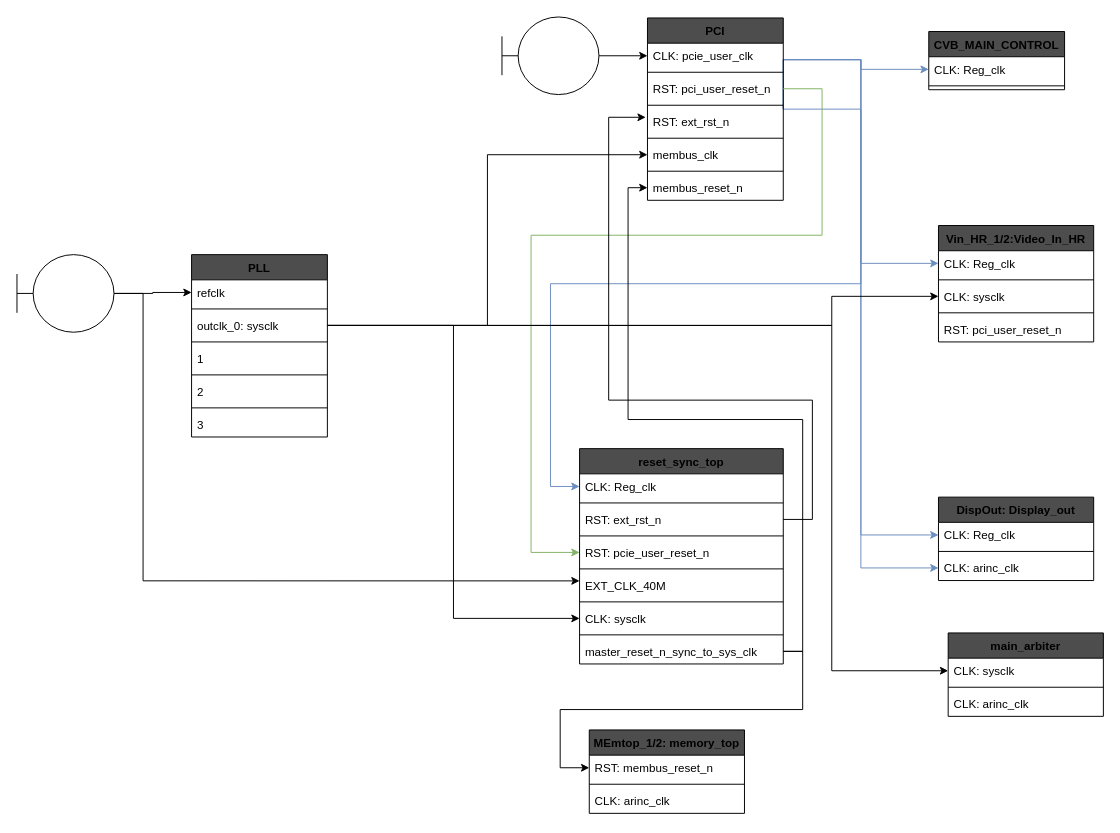
This 1120x833 diagram has some shape labels left out. Each missing label, with the centre of its shape:
EXT_CLK_40M PIN: point 65,293
pcie_ref_clk PIN: point 550,55
